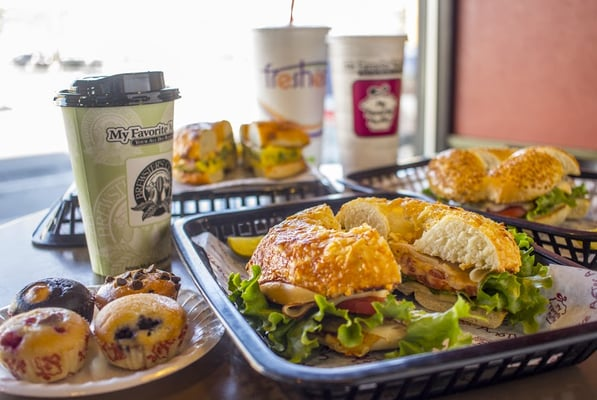curry: (399, 298, 473, 357)
pizza: (52, 69, 181, 281)
soup: (337, 194, 548, 329), (480, 145, 591, 225)
sushi: (170, 167, 587, 392)
